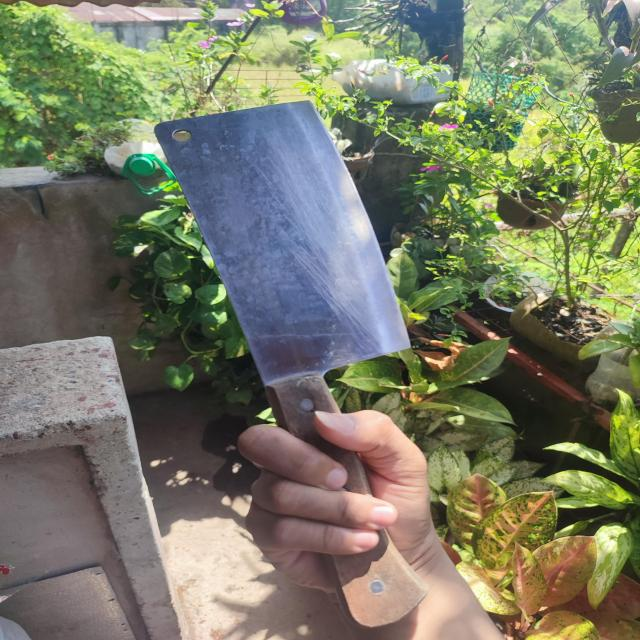knife: (154, 100, 429, 629)
